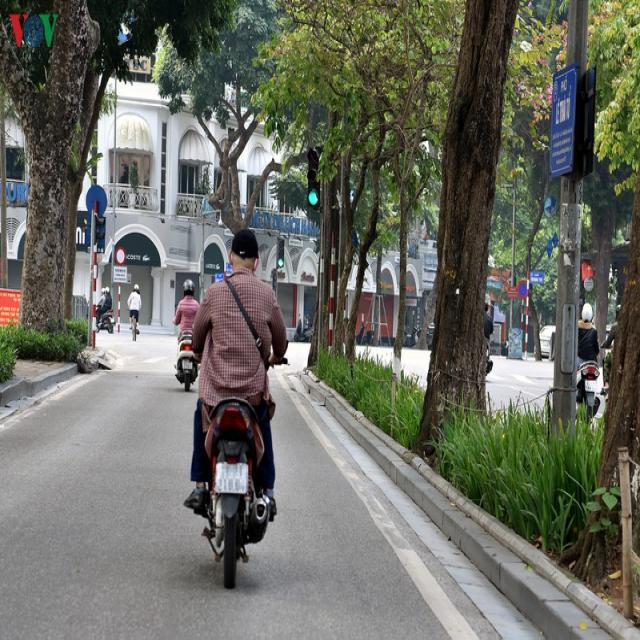Cap: (231, 228, 259, 261)
